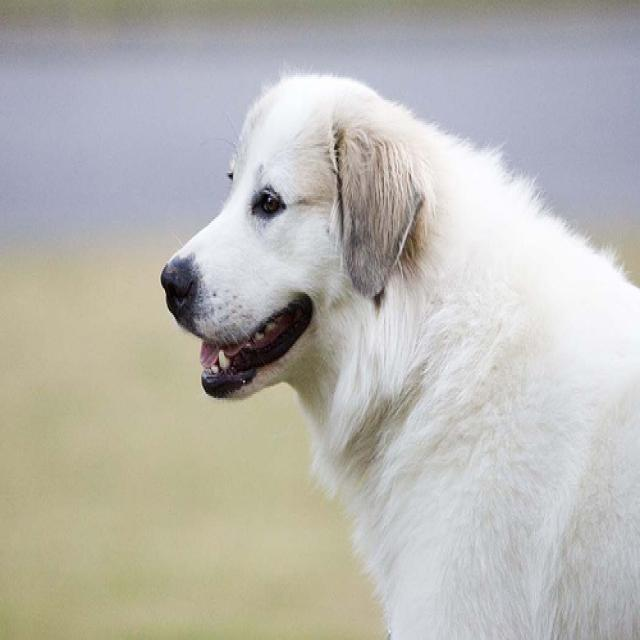dog-great_pyrenees: (151, 60, 637, 636)
